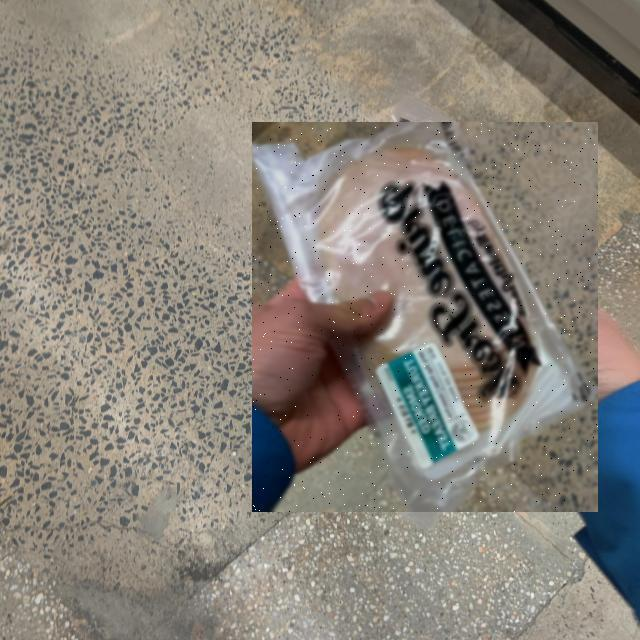Meat: (252, 122, 598, 512)
